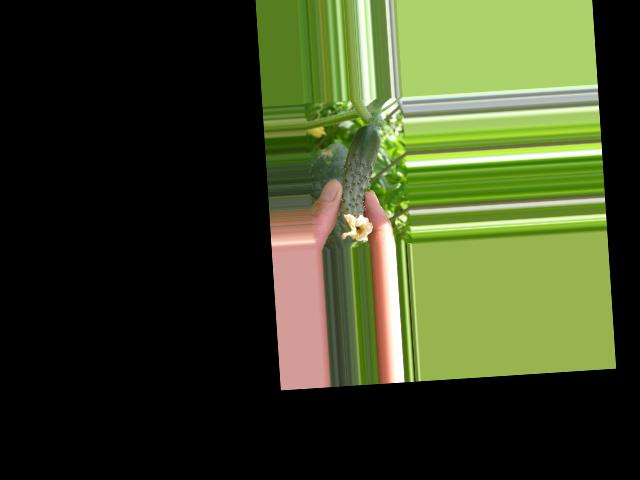cucumber: (334, 124, 386, 242)
